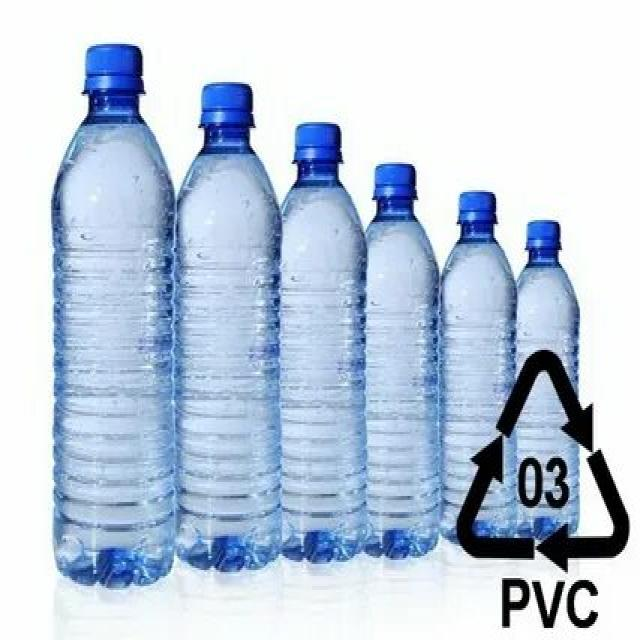blue: (50, 92, 176, 590), (176, 123, 281, 572), (281, 163, 367, 565), (364, 202, 442, 560), (441, 223, 513, 400)
